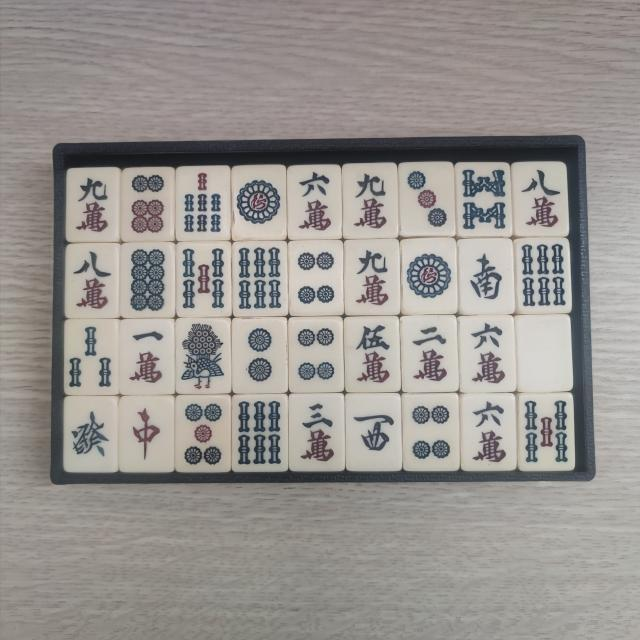hdg: (68, 401, 114, 468)
hdr: (125, 400, 168, 468)
hdw: (524, 320, 570, 387)
hws: (462, 244, 507, 310)
hww: (350, 401, 398, 468)
sb1: (178, 322, 226, 392)
sb3: (66, 322, 113, 391)
sb5: (179, 248, 230, 316), (523, 399, 573, 468)
sb6: (236, 245, 286, 312), (519, 243, 569, 310), (237, 399, 284, 468)
sb7: (181, 171, 226, 237)
sb8: (461, 168, 508, 235)
sc1: (125, 324, 169, 389)
sc2: (406, 321, 453, 388)
sc3: (294, 398, 340, 466)
sc5: (350, 322, 394, 388)
sc6: (464, 321, 510, 389), (292, 168, 336, 234), (468, 398, 510, 466)
sc8: (517, 168, 563, 234), (71, 248, 116, 314)
sc9: (350, 246, 396, 312), (349, 167, 394, 233), (72, 173, 116, 239)
sd1: (404, 244, 454, 312), (235, 172, 282, 236)
sd2: (238, 323, 282, 390)
sd3: (402, 168, 450, 234)
sd4: (408, 398, 454, 466), (294, 323, 340, 388), (294, 246, 339, 312)
sd5: (181, 399, 226, 467)
sd6: (128, 172, 170, 238)
sd8: (125, 248, 170, 316)
